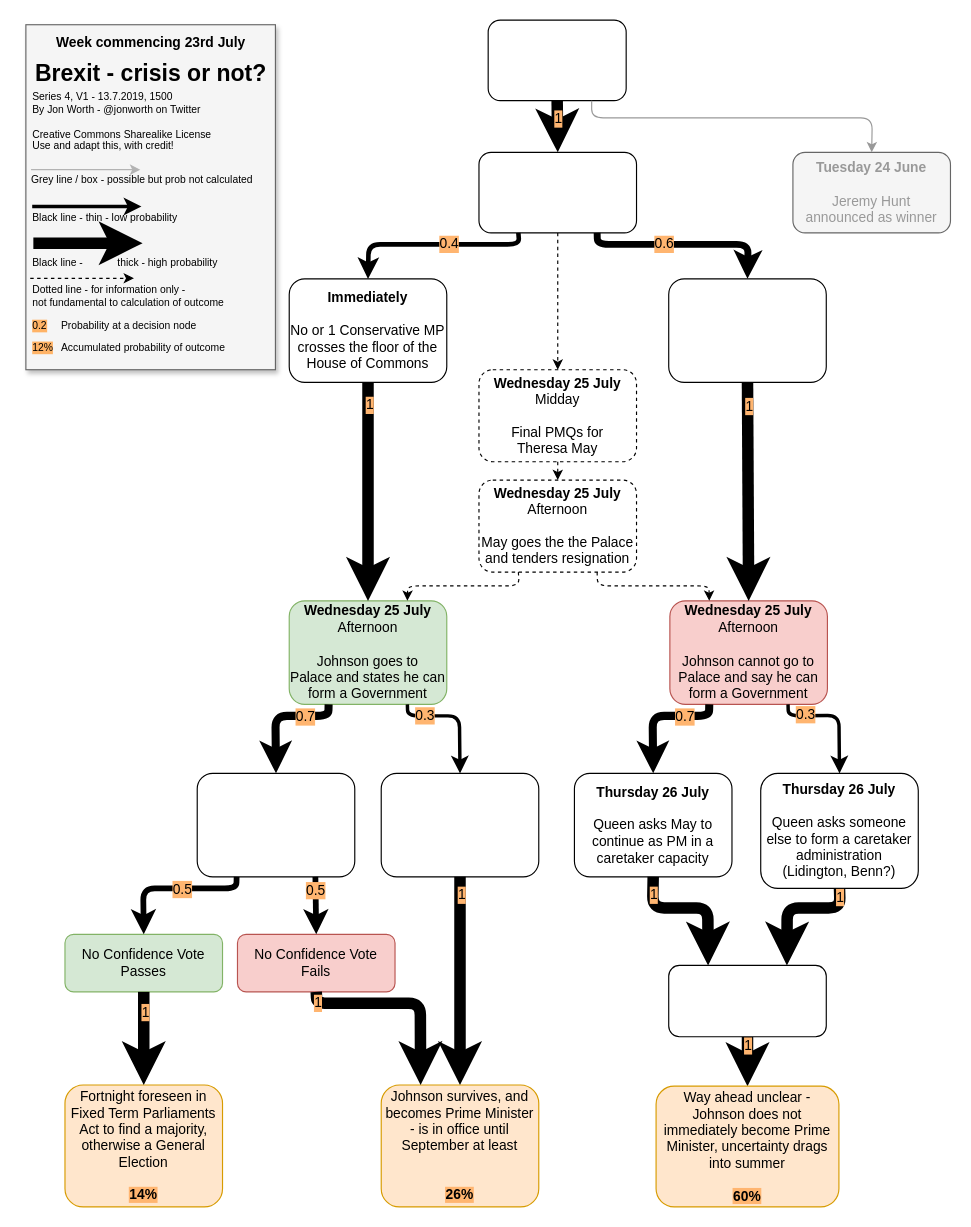
The diagram is 971 pixels wide and 1227 high, and some of its shapes have lost their labels. Here are the shapes that lost their labels. From the top down, the centre of each, then its label:
At [556,60]: "Monday 23 July Ballot closes for Tory Leader Election".
At [557,192]: "Tuesday 24 July Boris Johnson announced as winner".
At [747,330]: "Immediately At least 2 Conservative MPs cross the floor of the House of Commons".
At [275,824]: "Thursday 26 July Labour proposes a No Confidence Vote in the Government".
At [459,824]: "Thursday 26 July Labour does not propose No Confidence Vote in the Government".
At [747,1000]: "Consultations to find a way forward, Commons recess postponed".
